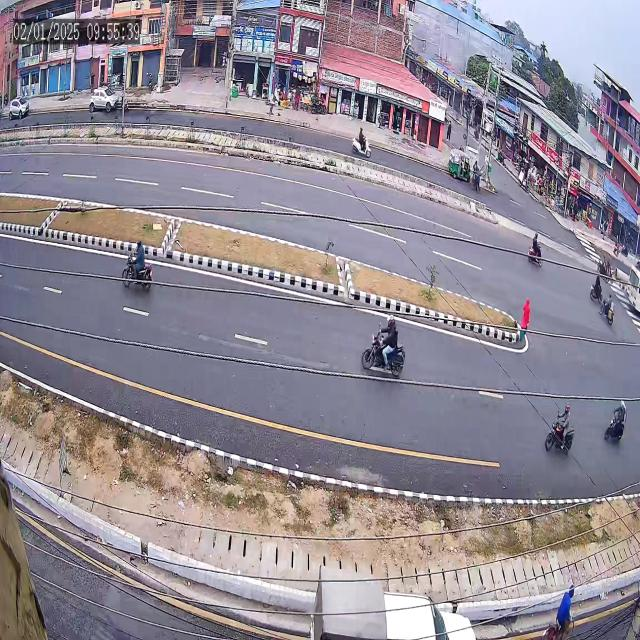motorcycle: (355, 300, 411, 389), (111, 232, 159, 303), (536, 394, 578, 464), (599, 386, 632, 458), (521, 222, 549, 277), (600, 286, 623, 340), (348, 115, 372, 166), (582, 264, 602, 306)
